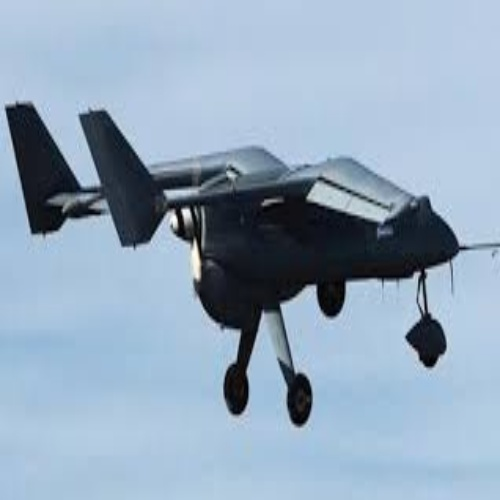uav: (2, 98, 493, 427)
